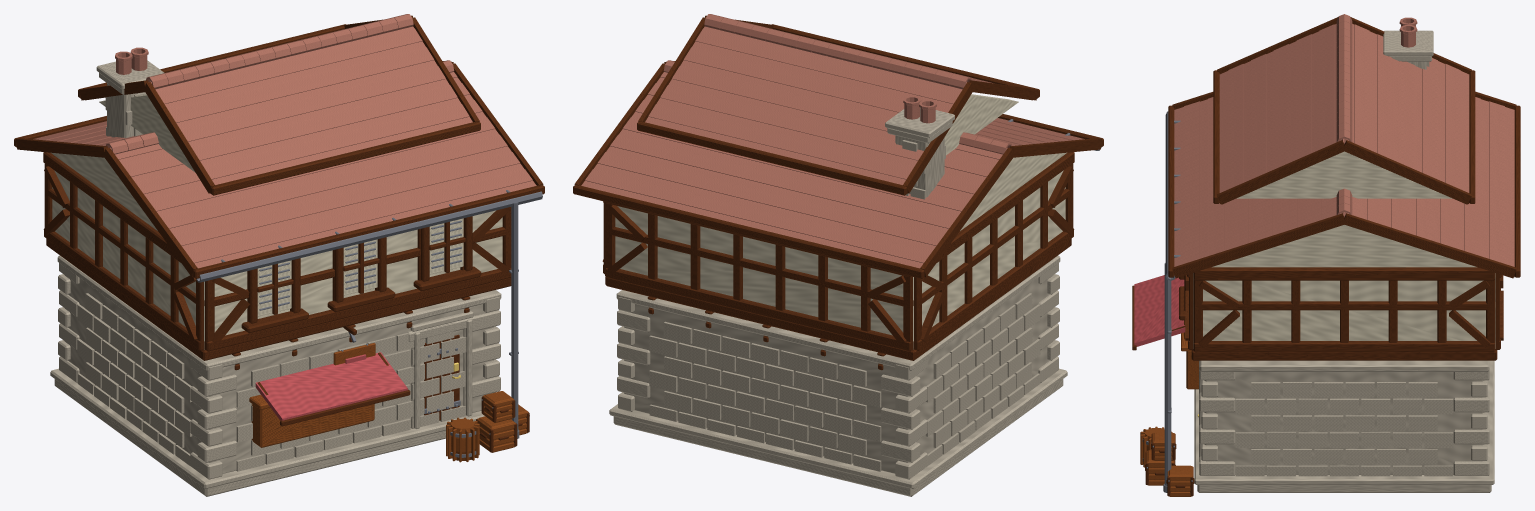
Rendered from fantasy-mmo-city-and-townsfolk-general-store-739cfa62__32737.glb.
3 views of the same model, side by side, from view 1: azimuth 30°, elevation 25°; view 2: azimuth 150°, elevation 25°; view 3: azimuth 270°, elevation 25° (orthographic). The views are drawn at different scales.
Parts seen in each view (by area): view 1: general-store, awning/red, awning/timber, door/timber; view 2: general-store; view 3: general-store, awning/red.
Boxes of the visible parts, bbox=[...] form: general-store: bbox=[14, 14, 544, 496]; awning/red: bbox=[255, 352, 407, 420]; awning/timber: bbox=[257, 352, 410, 426]; door/timber: bbox=[424, 334, 459, 420]; general-store: bbox=[573, 14, 1103, 496]; general-store: bbox=[1140, 14, 1520, 496]; awning/red: bbox=[1134, 275, 1185, 346].
Bounding box in the file's own units: 9.76 × 9.6 × 9.71.
8 materials, 6 textured.
